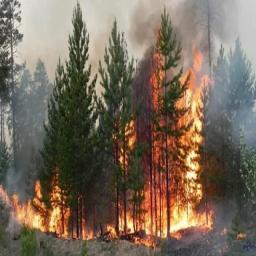Low smoke: (9, 4, 255, 255)
Medium fire: (0, 44, 236, 239)
